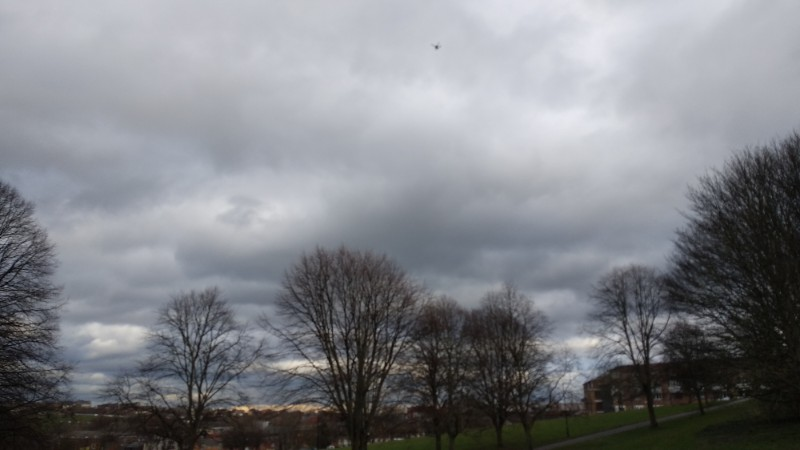drone: (429, 41, 445, 53)
